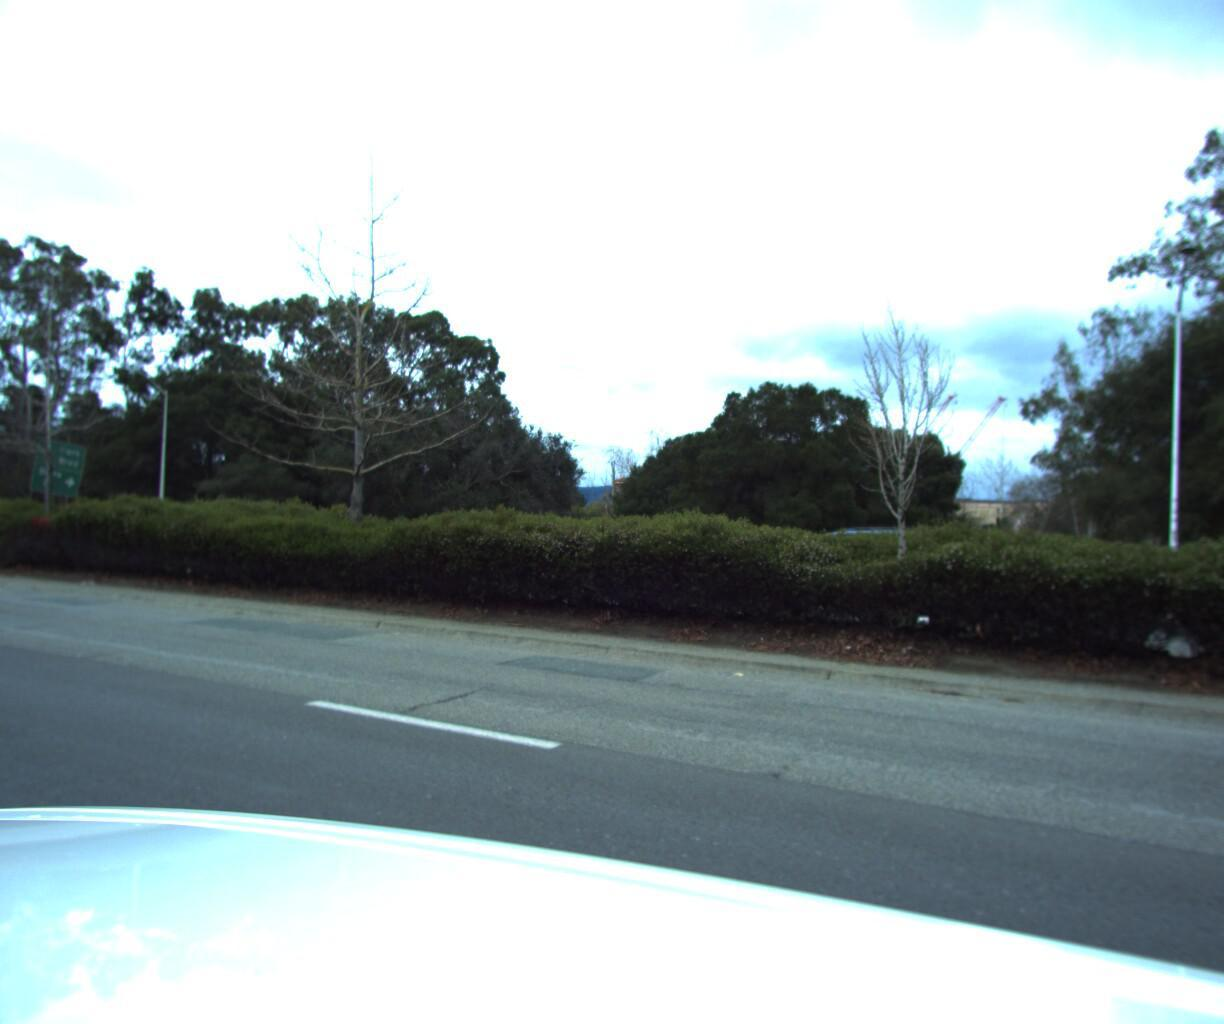car: (702, 515, 980, 619)
